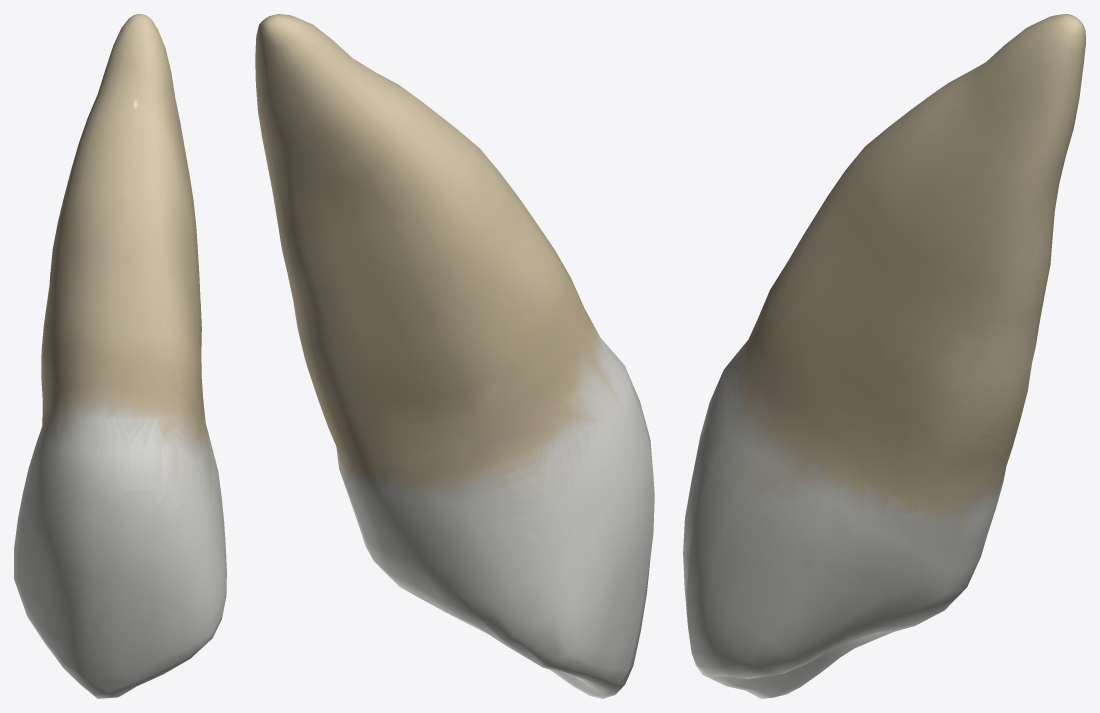
The model's file is tooth-13.glb.
3 renders of one model, left to right at view 1: azimuth 30°, elevation 25°; view 2: azimuth 150°, elevation 25°; view 3: azimuth 270°, elevation 25°, orthographic. The views are drawn at different scales.
Parts seen in each view (by area): view 1: polySurface6_blinn15_0; view 2: polySurface6_blinn15_0; view 3: polySurface6_blinn15_0.
Boxes of the visible parts, x1,y1,x2,y2 form: polySurface6_blinn15_0: (14, 14, 226, 698); polySurface6_blinn15_0: (255, 14, 654, 698); polySurface6_blinn15_0: (683, 14, 1085, 698).
Size of the model in its own units: 0.2799 by 0.7286 by 0.344.
1 material, 1 textured.
